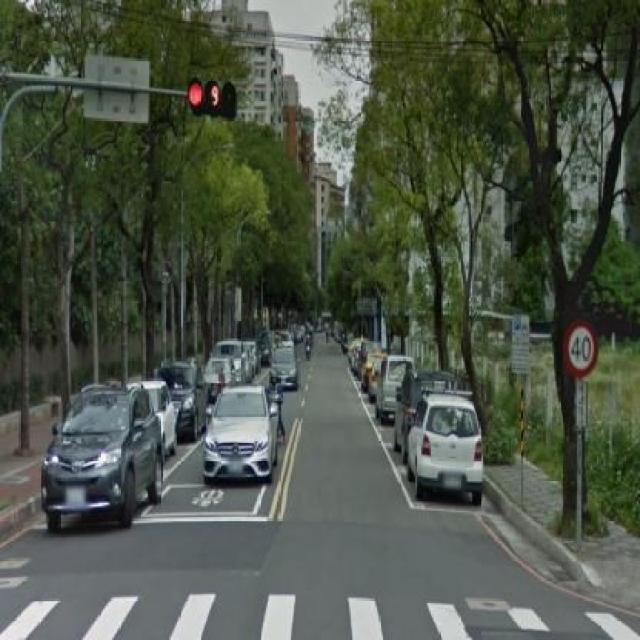forb_speed_over_40: (564, 320, 599, 375)
